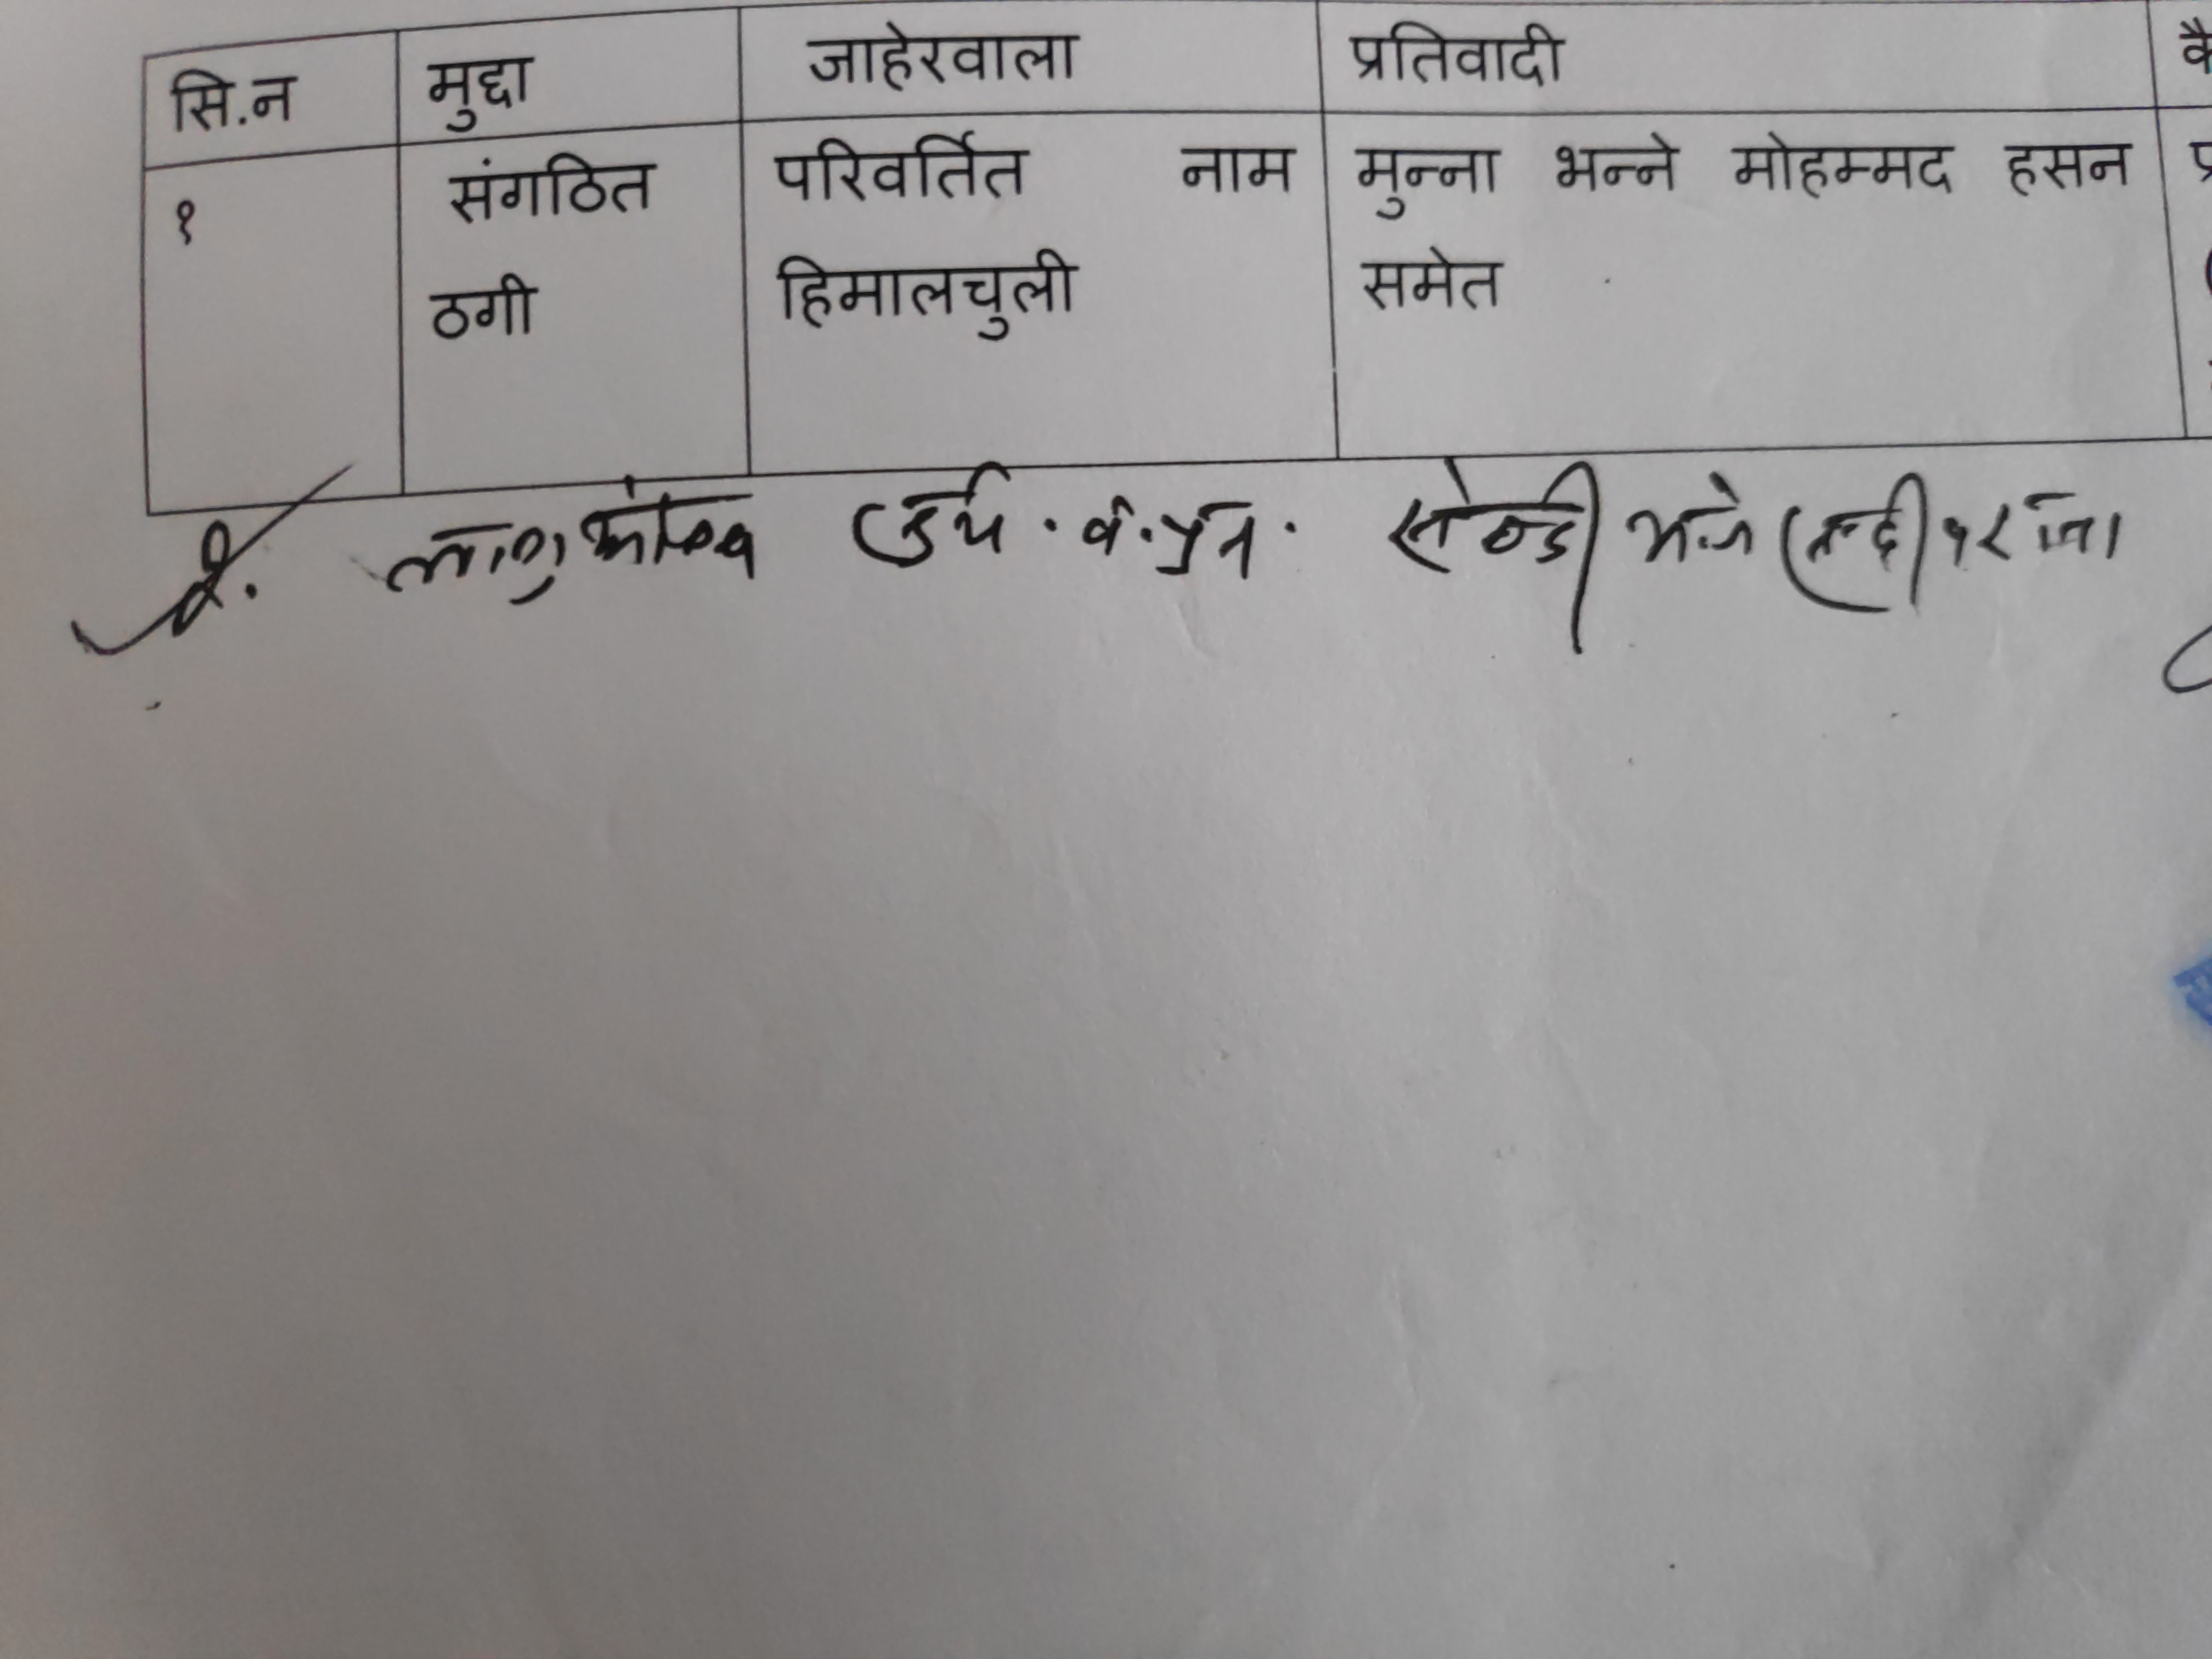text: (838, 465, 1305, 591), (373, 479, 780, 615), (1381, 448, 1611, 657), (1778, 460, 1939, 629), (1625, 453, 1777, 586), (153, 514, 246, 647), (2029, 484, 2134, 572), (1939, 490, 2026, 580)
